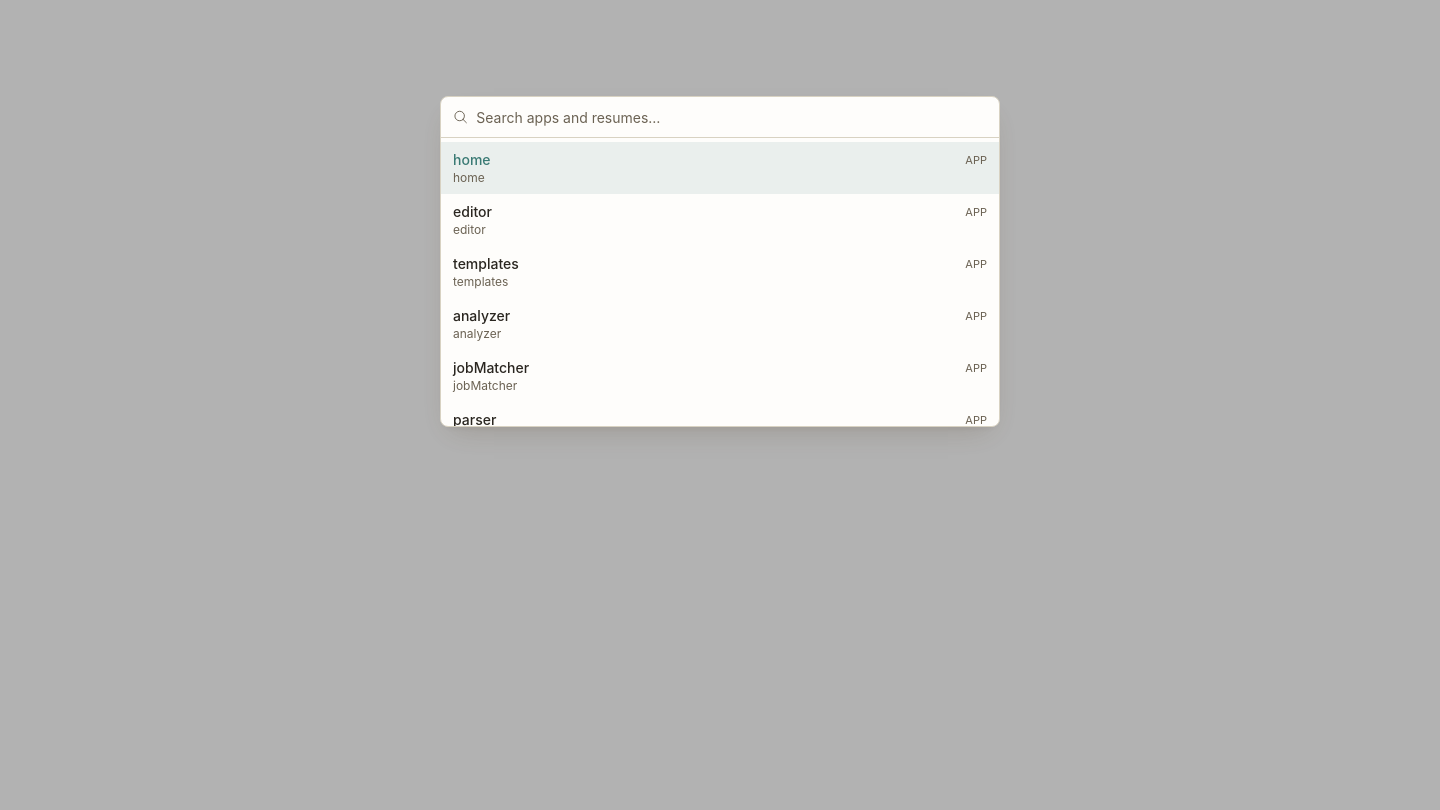
Test: <SearchPalette> › typing filters the list
Type "templ" into the search field with test id "os-palette-input".
click(732, 117); type("templ")  # box 476,97 -> 987,137
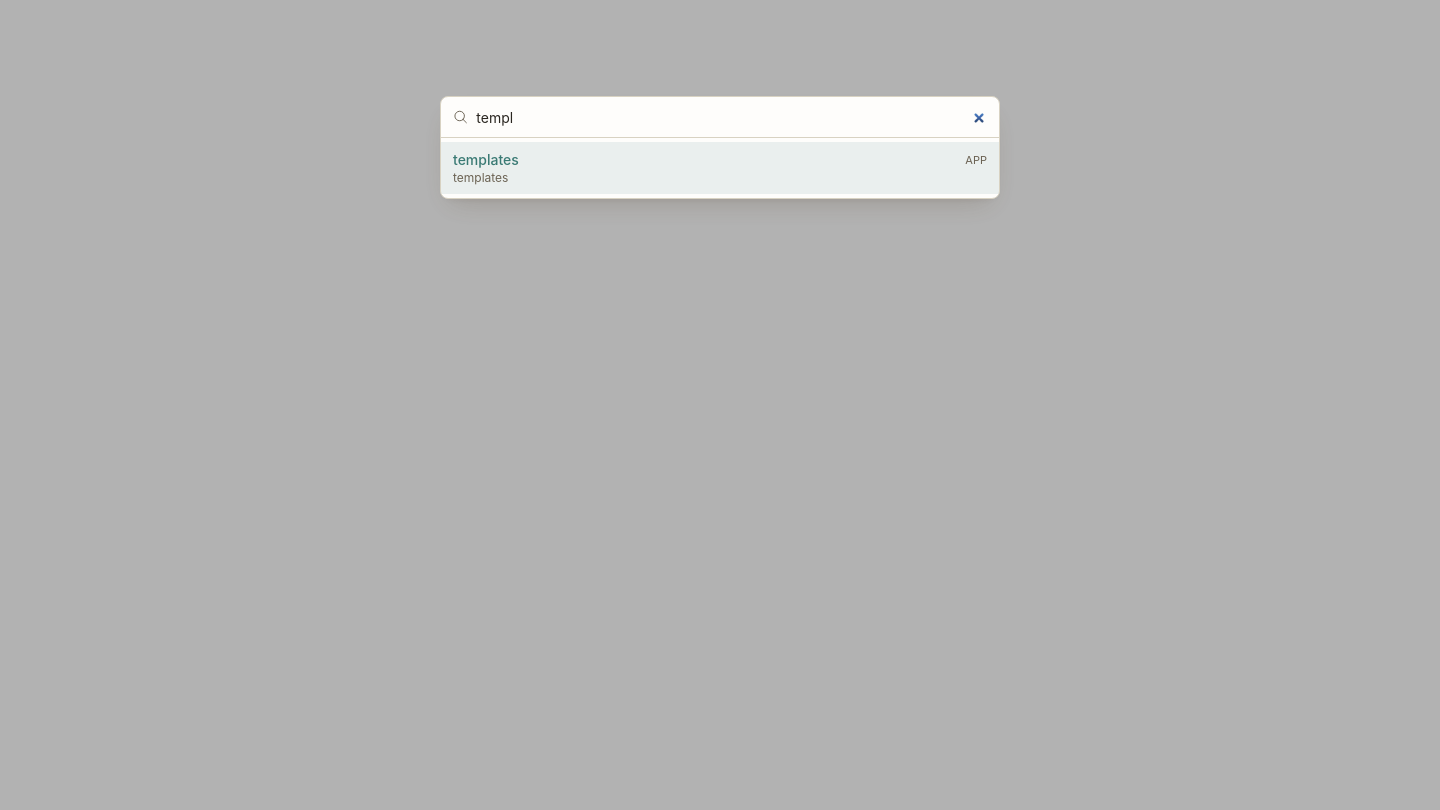
Expected: the option with test id "os-palette-row-templates" is shown, 441,142 -> 999,194
Expected: the option with test id "os-palette-row-home" is gone
